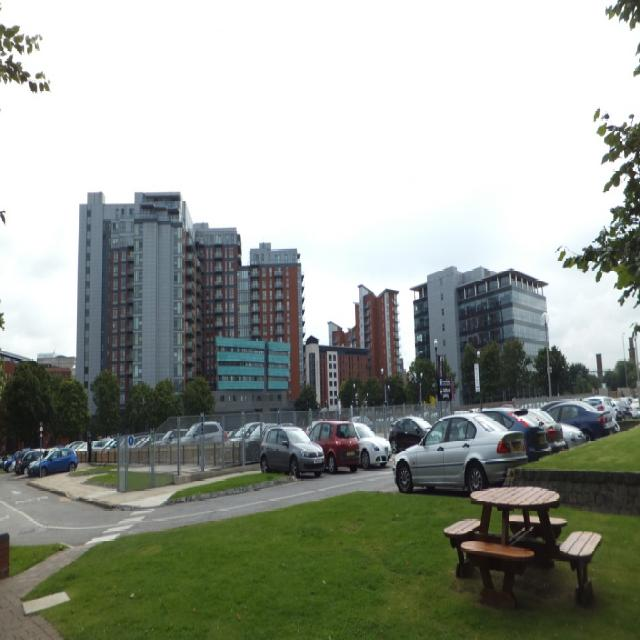car: (258, 426, 327, 480), (27, 449, 77, 474)
